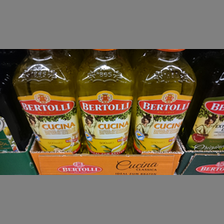oil: (11, 50, 79, 153), (133, 49, 197, 152), (74, 51, 135, 153)
